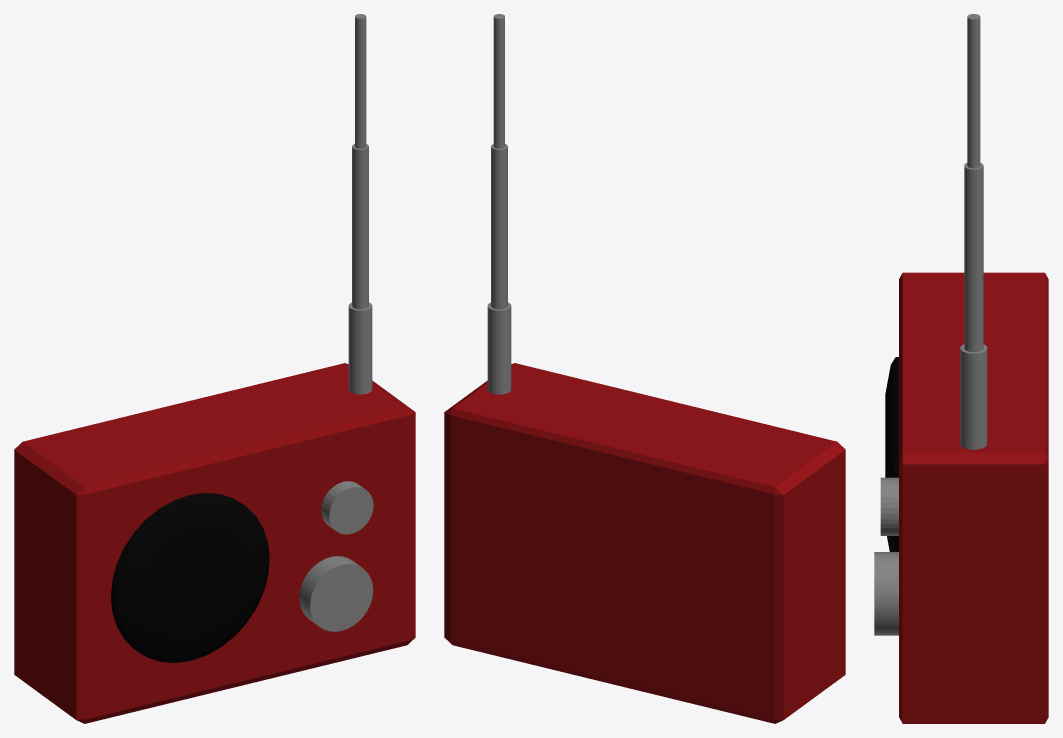
The model's file is radio.fbx.
3 views of the same model, side by side, from view 1: azimuth 30°, elevation 25°; view 2: azimuth 150°, elevation 25°; view 3: azimuth 270°, elevation 25° (orthographic). The views are drawn at different scales.
Parts seen in each view (by area): view 1: Cylinder.004; view 2: Cylinder.004; view 3: Cylinder.004.
Part boxes in pixels (left/top/right/bottom): Cylinder.004: left=14, top=14, right=415, bottom=723; Cylinder.004: left=444, top=14, right=845, bottom=723; Cylinder.004: left=874, top=14, right=1048, bottom=723.
Size of the model in its own units: 30 by 51.51 by 11.65.
